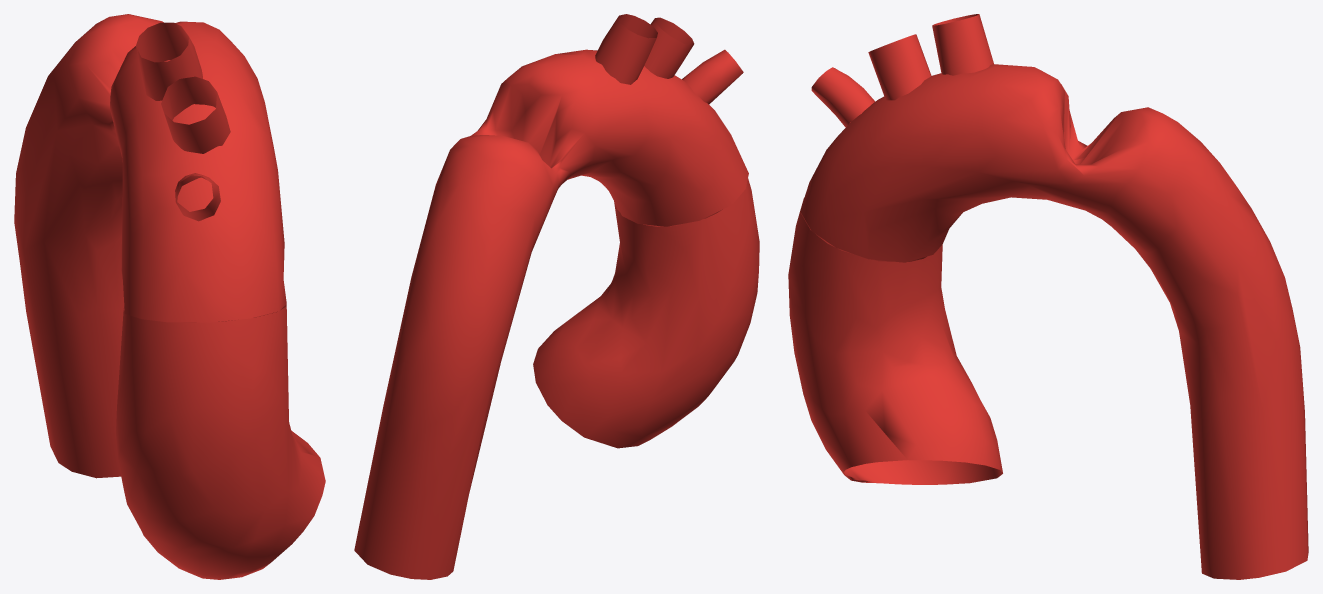
Rendered from Coarctation.gltf.
The picture shows the model from 3 angles, left to right: view 1: azimuth 30°, elevation 25°; view 2: azimuth 150°, elevation 25°; view 3: azimuth 270°, elevation 25°; orthographic projection. The views are drawn at different scales.
Visible parts, largest first — view 1: a1.022; view 2: a1.022; view 3: a1.022.
Boxes of the visible parts, x1,y1,x2,y2 form: a1.022: (14, 14, 325, 579); a1.022: (354, 14, 759, 579); a1.022: (788, 14, 1308, 579).
Size of the model in its own units: 1.47 by 3.16 by 2.91.
